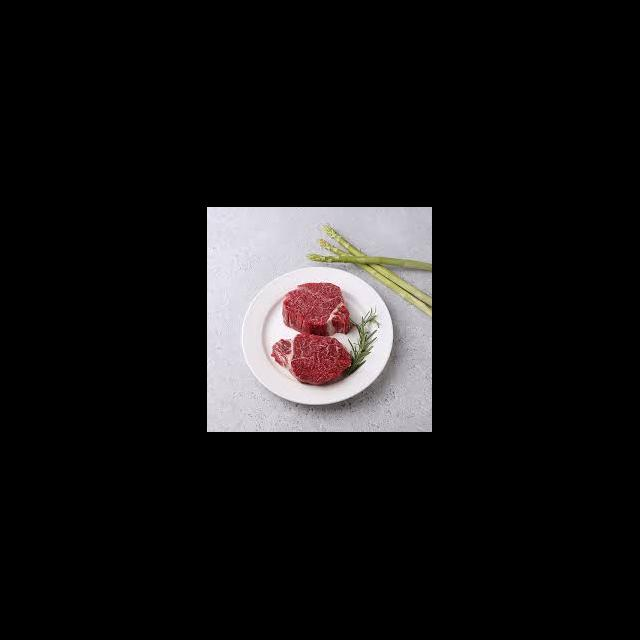beef: (266, 329, 358, 386), (280, 278, 354, 335)
